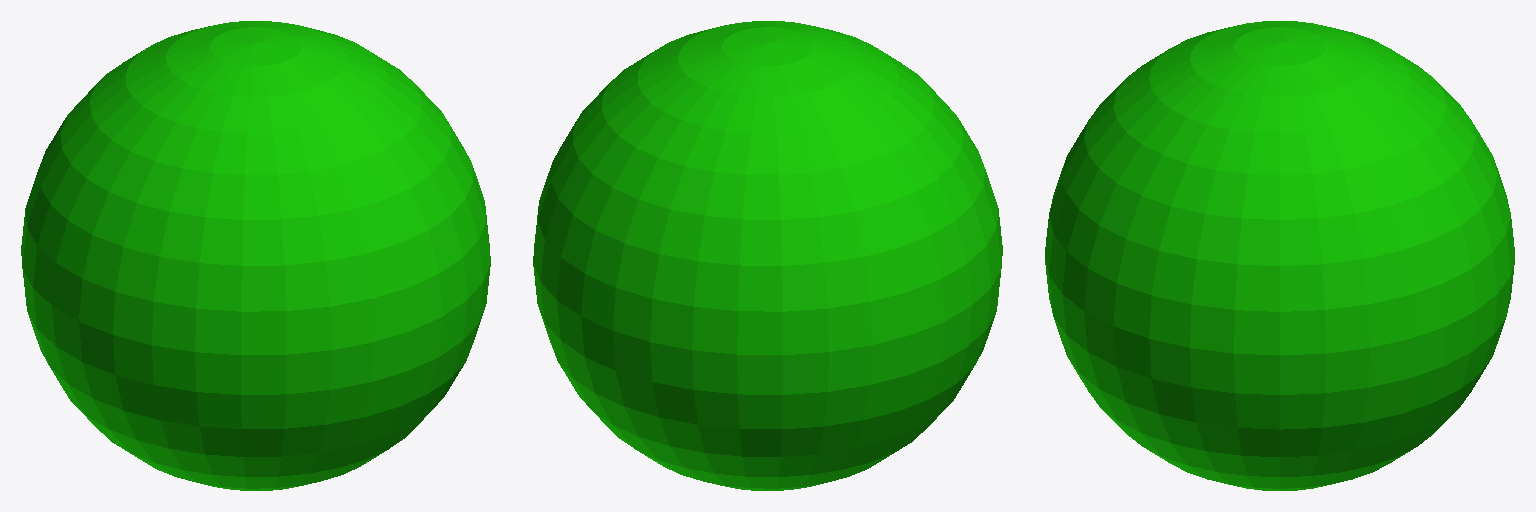
File: Ball.obj
The picture shows the model from 3 angles: view 1: azimuth 30°, elevation 25°; view 2: azimuth 150°, elevation 25°; view 3: azimuth 270°, elevation 25°; orthographic projection.
Visible parts, largest first — view 1: Sphere; view 2: Sphere; view 3: Sphere.
Boxes of the visible parts, x1=… form: Sphere: x1=21, y1=21, x2=490, y2=490; Sphere: x1=533, y1=21, x2=1002, y2=490; Sphere: x1=1045, y1=21, x2=1514, y2=490.
Size of the model in its own units: 2 by 2 by 2.